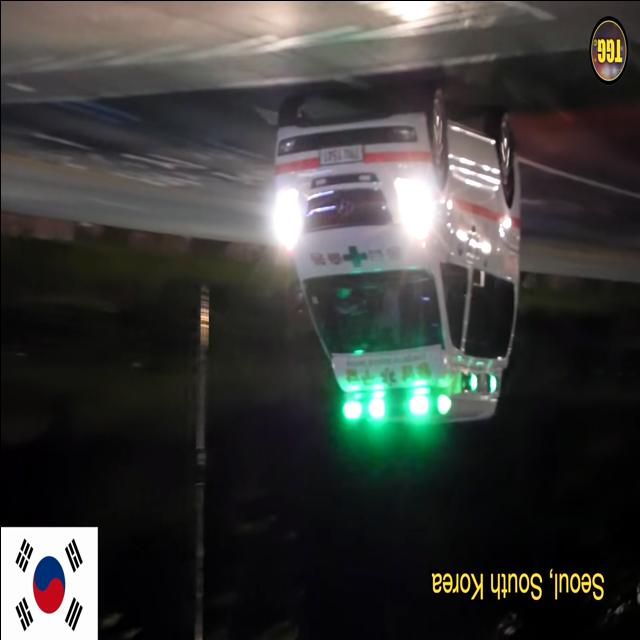emergency-vehicles: (239, 72, 540, 446)
